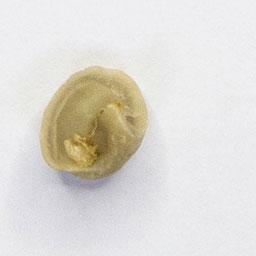defect: (37, 63, 153, 184)
